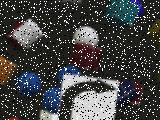Right: (57, 73, 118, 120)
